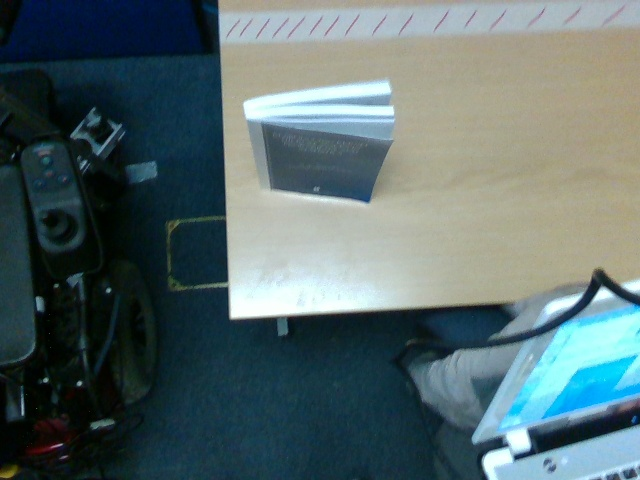book: (243, 78, 397, 203)
